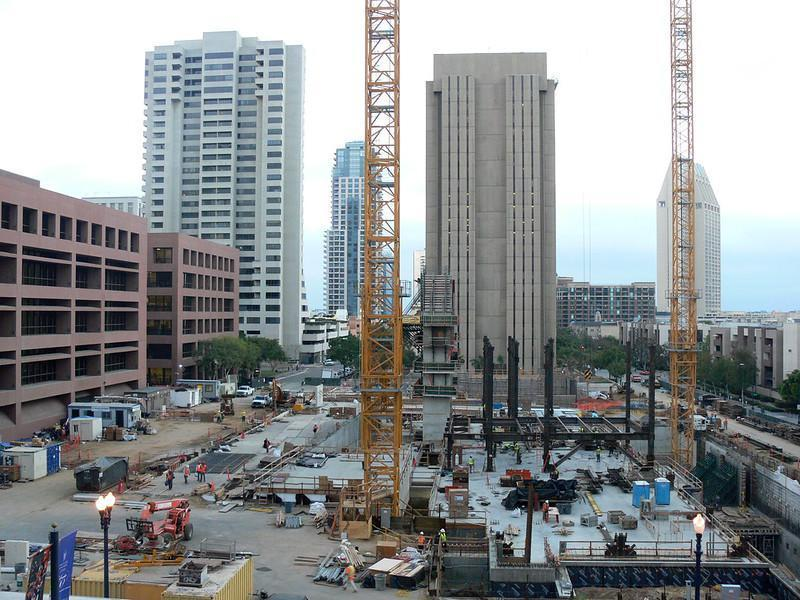Helmet: (440, 528, 446, 532), (168, 468, 172, 471), (186, 464, 189, 467), (420, 532, 424, 534), (597, 446, 600, 448), (546, 500, 548, 503), (314, 422, 317, 424)
Person: (342, 564, 358, 593), (166, 469, 176, 490), (514, 444, 523, 465), (195, 462, 202, 482), (543, 500, 549, 521), (201, 462, 207, 482), (184, 465, 190, 484), (467, 456, 474, 472), (263, 438, 270, 453), (439, 528, 446, 541), (418, 532, 425, 544), (312, 423, 318, 434), (596, 446, 600, 462), (722, 419, 728, 429), (241, 410, 246, 422), (411, 457, 416, 468)
